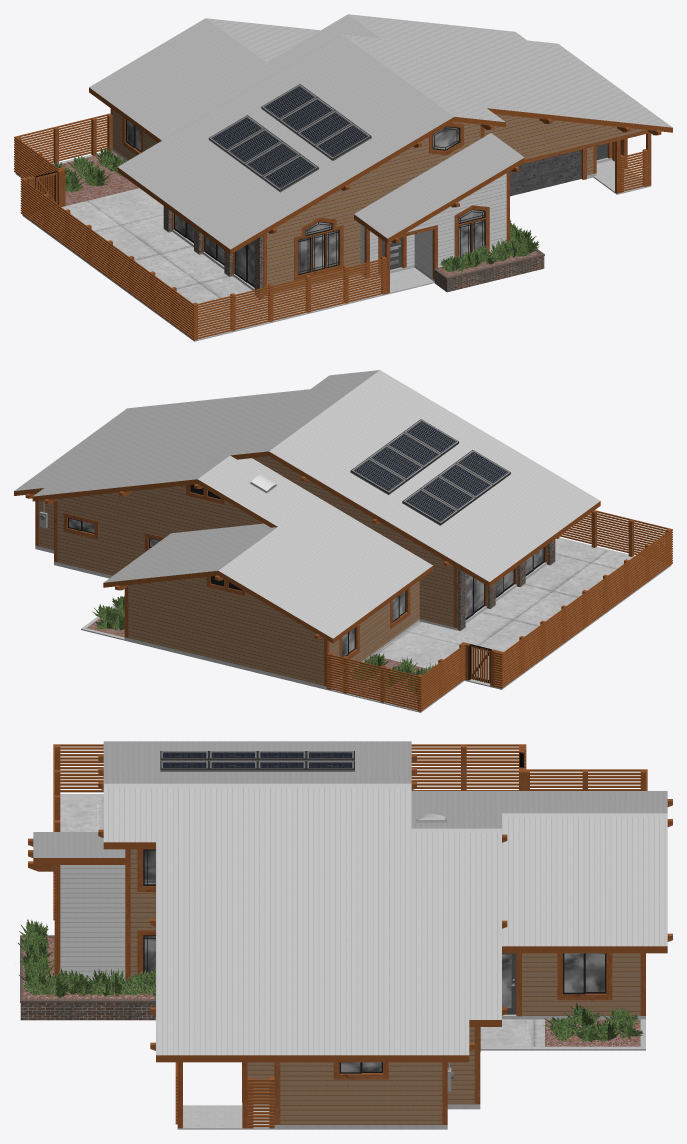
File: House.glb
The picture shows the model from 3 angles, top to bottom: view 1: azimuth 30°, elevation 25°; view 2: azimuth 150°, elevation 25°; view 3: azimuth 270°, elevation 25°; orthographic projection. The views are drawn at different scales.
Parts seen in each view (by area): view 1: _(Loose Entity); view 2: _(Loose Entity); view 3: _(Loose Entity).
Boxes of the visible parts, x1,y1,x2,y2 form: _(Loose Entity): (14, 14, 672, 341); _(Loose Entity): (14, 370, 672, 712); _(Loose Entity): (20, 741, 672, 1129).
Size of the model in its own units: 22.96 by 6.12 by 18.58.
Materials: 47 (33 with a texture image).
